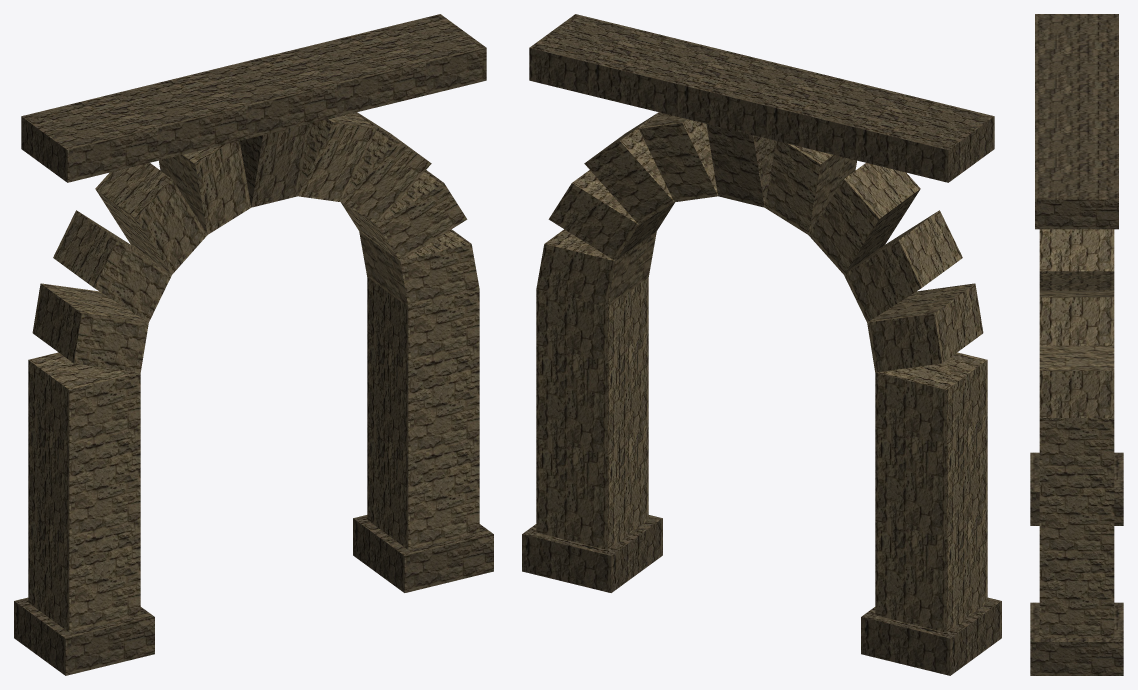
The model's file is stone_arch_01.glb.
The picture shows the model from 3 angles, left to right: view 1: azimuth 30°, elevation 25°; view 2: azimuth 150°, elevation 25°; view 3: azimuth 270°, elevation 25°; orthographic projection. The views are drawn at different scales.
Parts seen in each view (by area): view 1: stone_arch_01; view 2: stone_arch_01; view 3: stone_arch_01.
Boxes of the visible parts, left/top/right/bottom form: stone_arch_01: left=14, top=14, right=493, bottom=675; stone_arch_01: left=522, top=14, right=1001, bottom=675; stone_arch_01: left=1030, top=14, right=1123, bottom=675.
Size of the model in its own units: 4.8 by 5.6 by 1.
2 materials, 2 textured.
